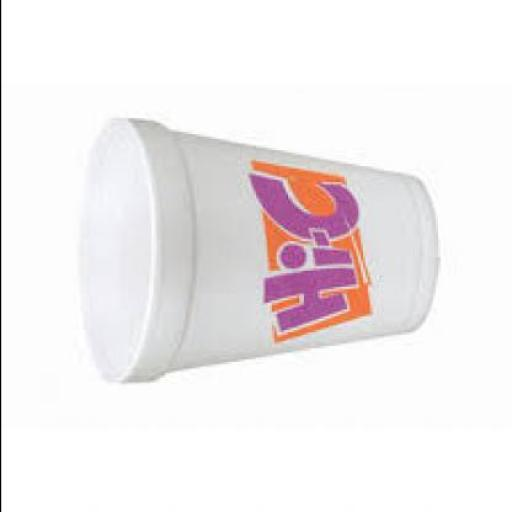paper: (80, 121, 432, 384)
